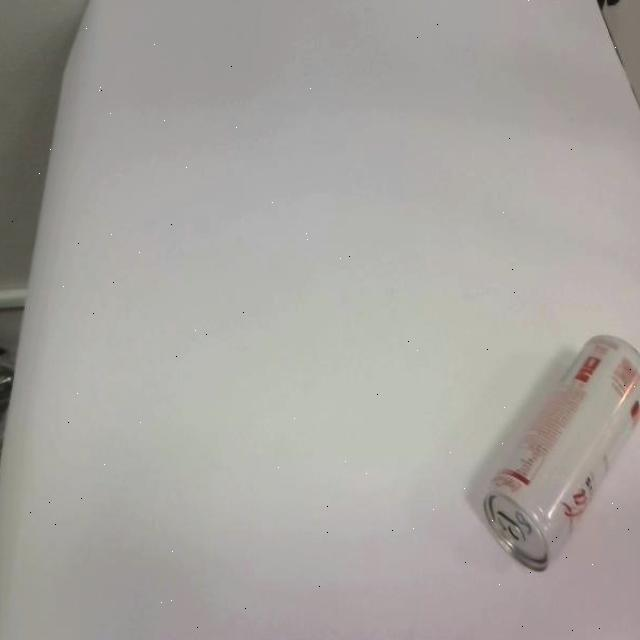debris: (481, 333, 640, 574)
